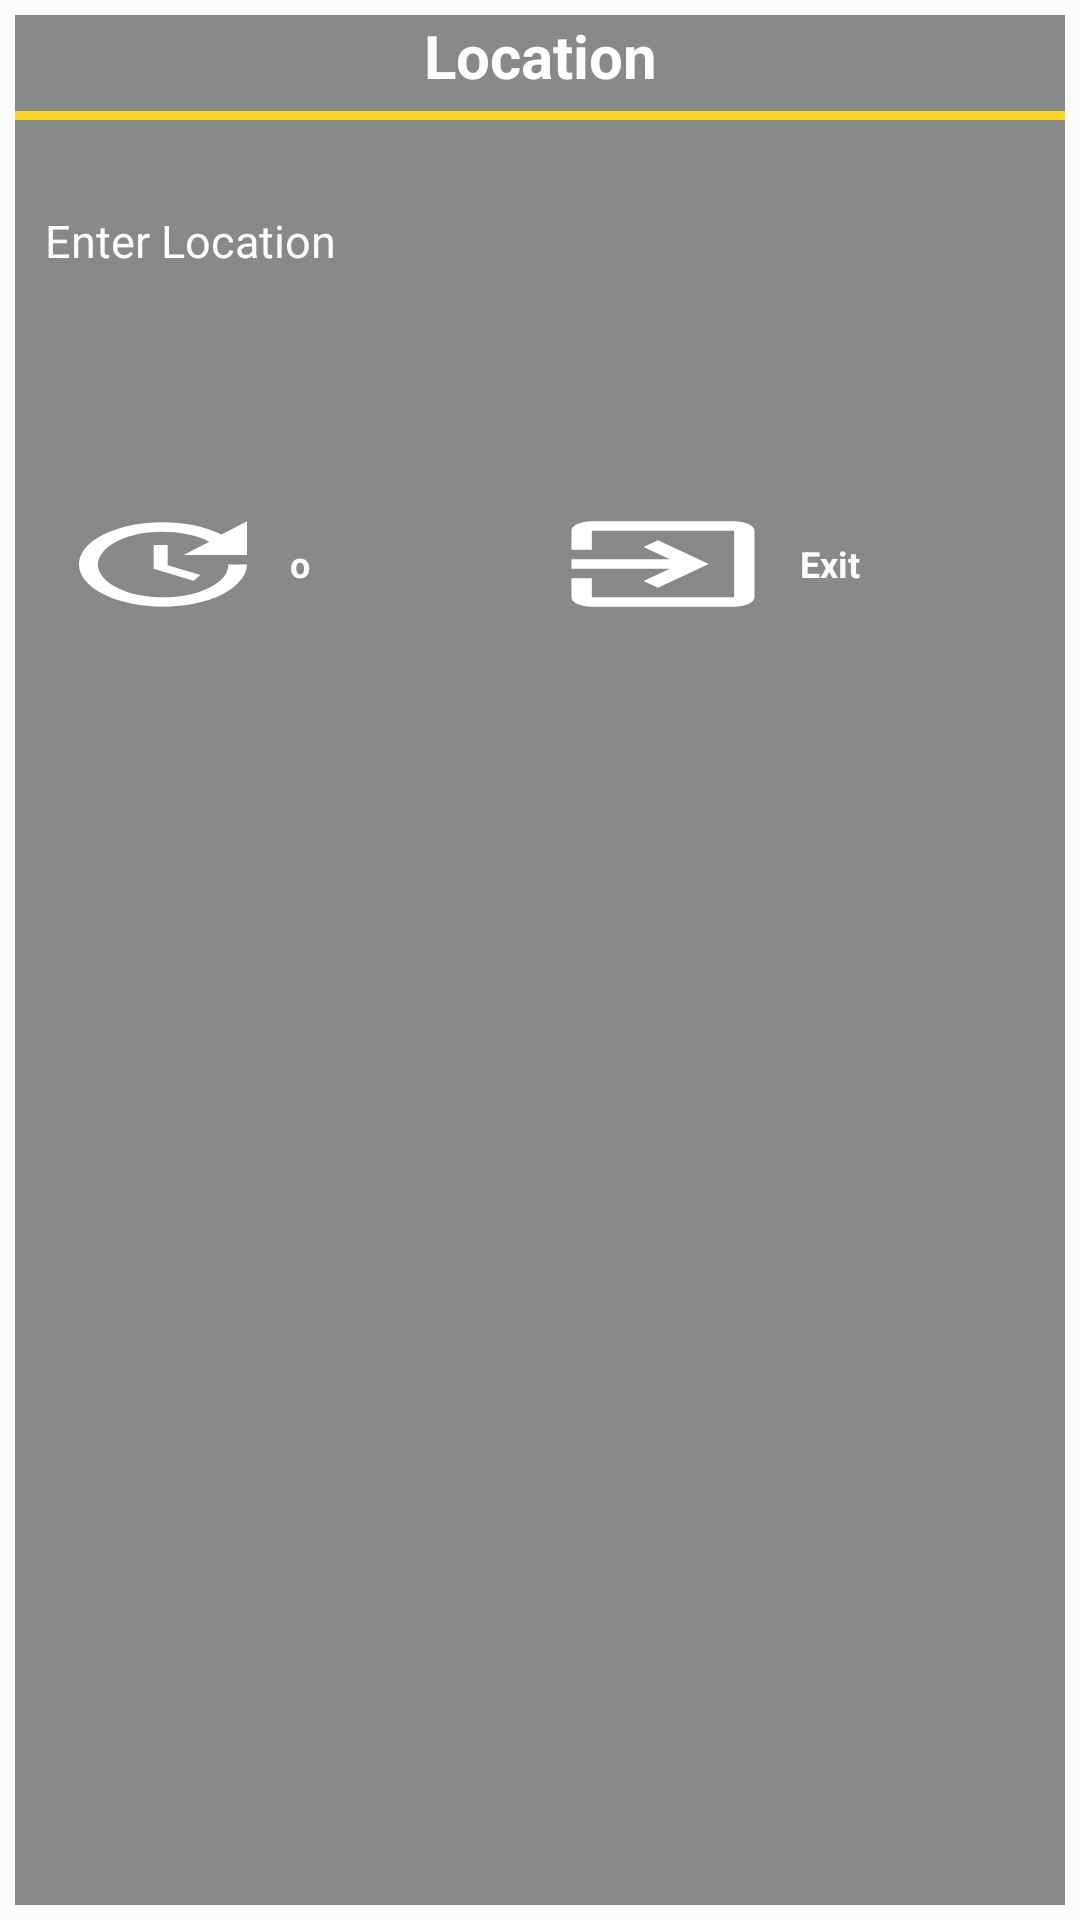

Named icons in this screenshot (1080*1920) and their centers, (x,y):
update: (163,564)
